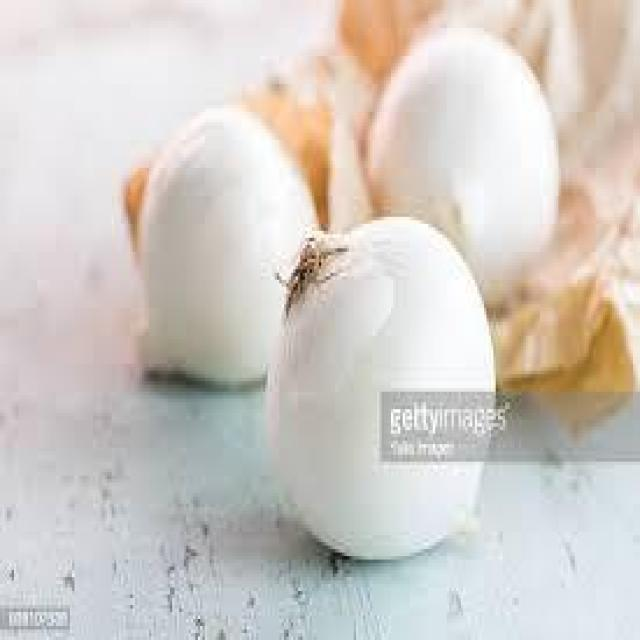Onion: (268, 203, 487, 563), (103, 107, 324, 369), (358, 16, 564, 285), (112, 87, 340, 238), (494, 196, 622, 416), (308, 0, 487, 73)
